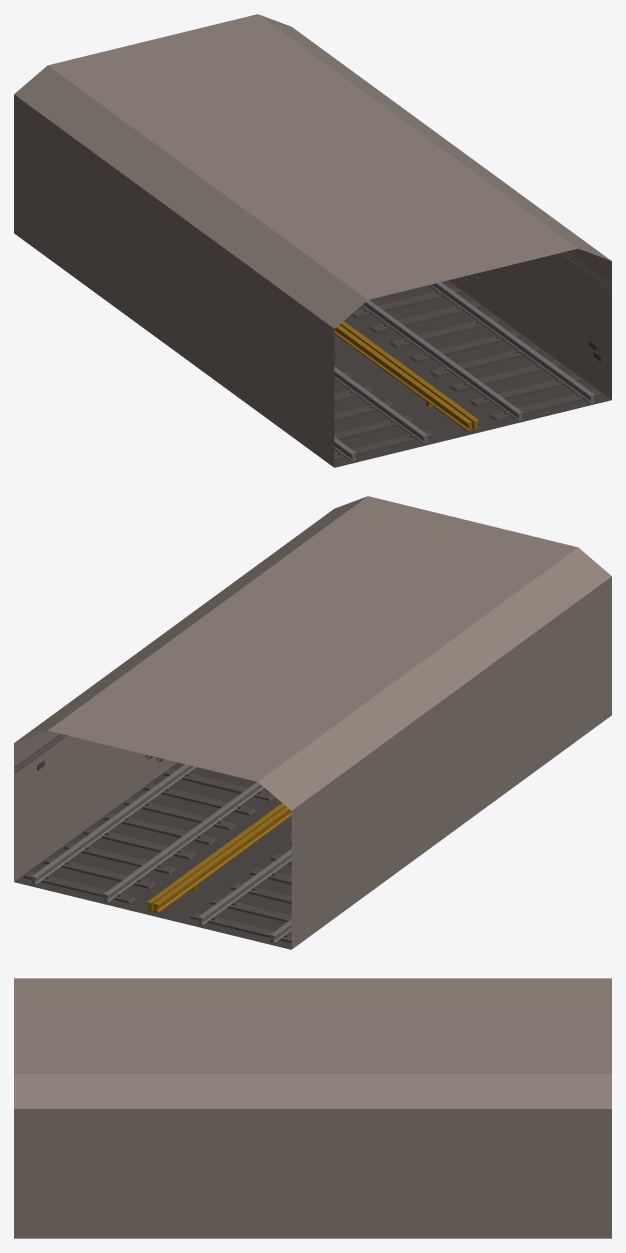
Rendered from SM_Train_Track_Underground_Double_Tunnel_Mid_02.fbx.
3 renders of one model, top to bottom at view 1: azimuth 30°, elevation 25°; view 2: azimuth 150°, elevation 25°; view 3: azimuth 270°, elevation 25°, orthographic. The views are drawn at different scales.
Visible parts, largest first — view 1: SM_Train_Track_Underground_Double_Tunnel_Mid_02; view 2: SM_Train_Track_Underground_Double_Tunnel_Mid_02; view 3: SM_Train_Track_Underground_Double_Tunnel_Mid_02.
Boxes of the visible parts, left/top/right/bottom form: SM_Train_Track_Underground_Double_Tunnel_Mid_02: left=14, top=14, right=611, bottom=467; SM_Train_Track_Underground_Double_Tunnel_Mid_02: left=14, top=496, right=611, bottom=949; SM_Train_Track_Underground_Double_Tunnel_Mid_02: left=14, top=978, right=611, bottom=1238.
Size of the model in its own units: 700 by 385 by 1400.
